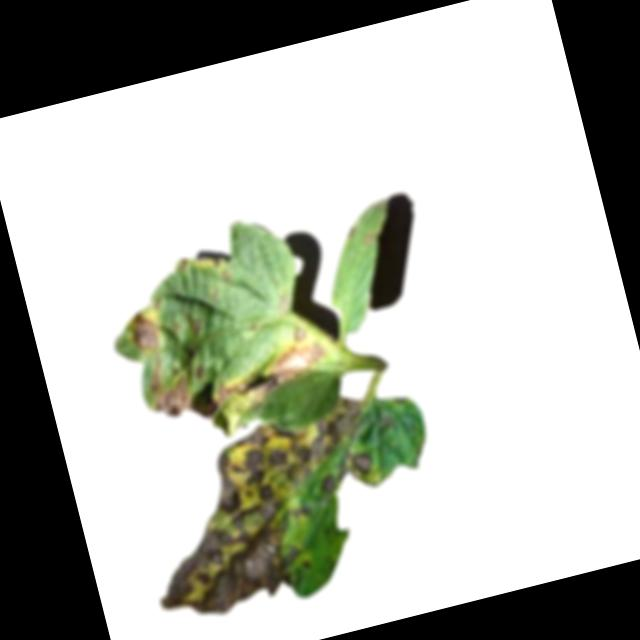Early_blight: (122, 393, 402, 627), (249, 322, 333, 397), (148, 375, 196, 422), (210, 372, 264, 411), (126, 304, 166, 356), (141, 352, 168, 391), (190, 315, 206, 337)
